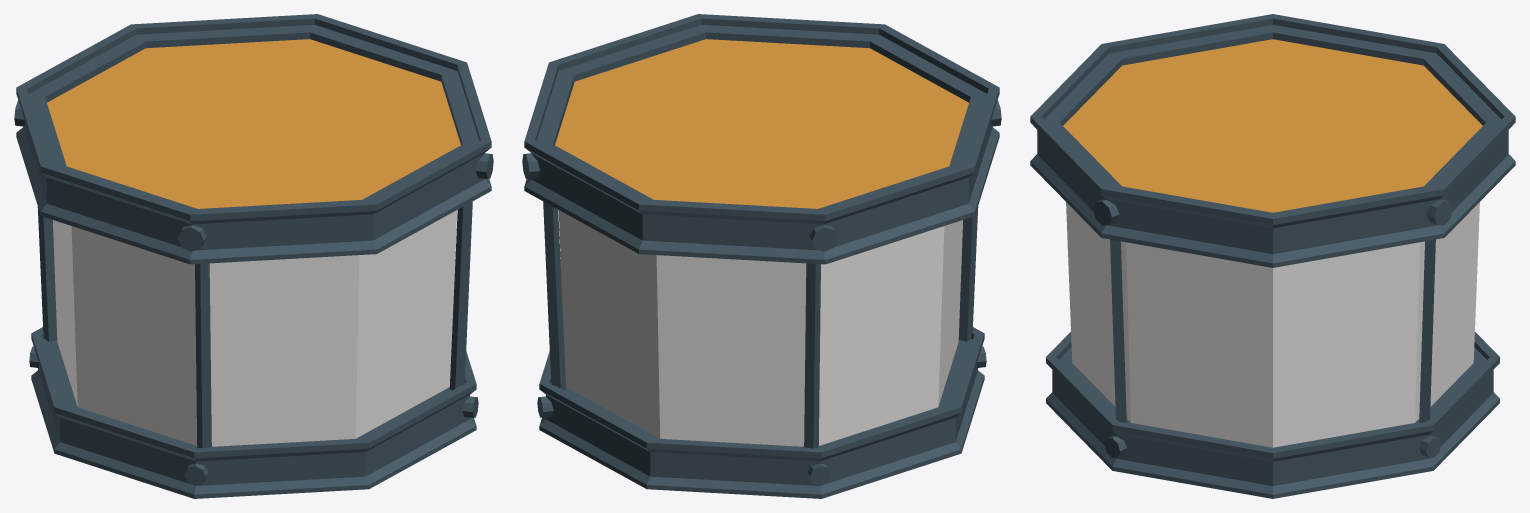
File: drum.fbx
The picture shows the model from 3 angles, left to right: view 1: azimuth 30°, elevation 25°; view 2: azimuth 150°, elevation 25°; view 3: azimuth 270°, elevation 25°; orthographic projection.
Parts seen in each view (by area): view 1: Drum_01; view 2: Drum_01; view 3: Drum_01.
Part boxes in pixels (bbox=[...]): Drum_01: bbox=[14, 14, 493, 498]; Drum_01: bbox=[522, 14, 1001, 498]; Drum_01: bbox=[1030, 14, 1515, 498].
Bounding box in the file's own units: 1157 × 754 × 1157.
